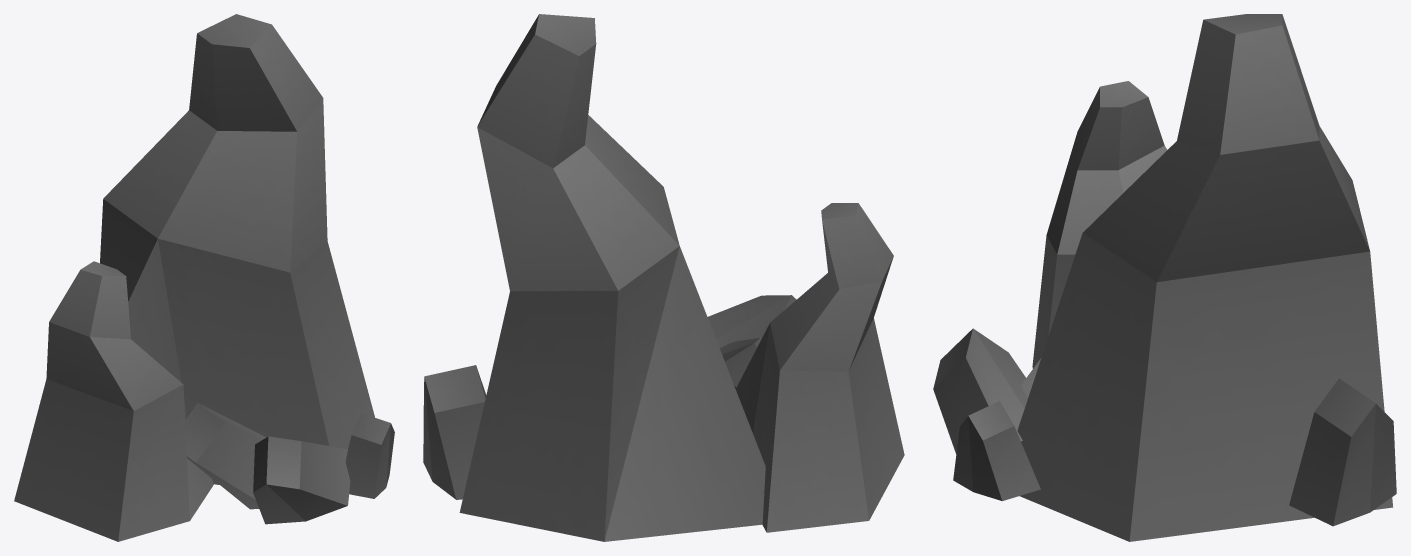
File: pack02_rocks_09.fbx
3 views of the same model, side by side, from view 1: azimuth 30°, elevation 25°; view 2: azimuth 150°, elevation 25°; view 3: azimuth 270°, elevation 25° (orthographic). The views are drawn at different scales.
Parts seen in each view (by area): view 1: Rock Type3 01 mesh; view 2: Rock Type3 01 mesh; view 3: Rock Type3 01 mesh.
Part boxes in pixels (<box>): Rock Type3 01 mesh: <box>14,14,394,541</box>; Rock Type3 01 mesh: <box>423,14,904,541</box>; Rock Type3 01 mesh: <box>933,14,1396,541</box>.
Size of the model in its own units: 181 by 210 by 180.
Materials: 1 (1 with a texture image).
